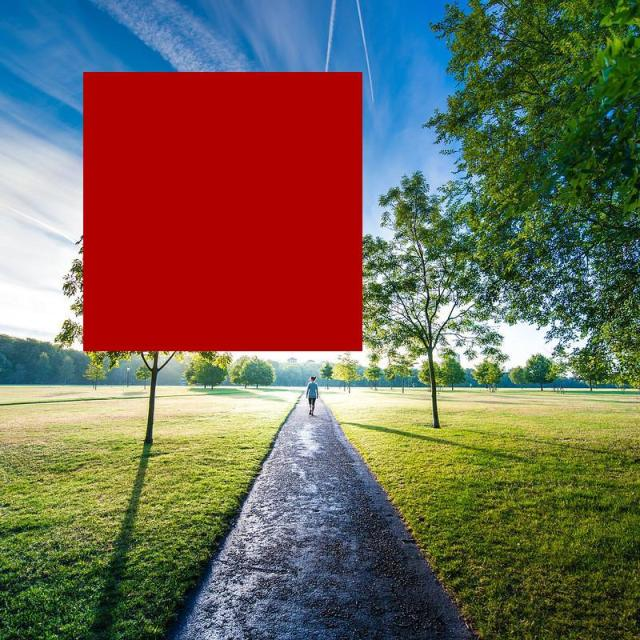RedSquare: (77, 67, 371, 356)
